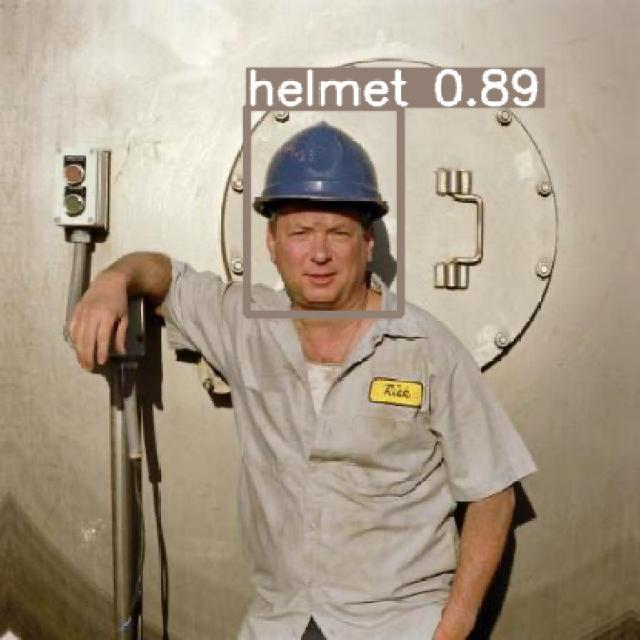Helmet: (251, 120, 389, 221)
